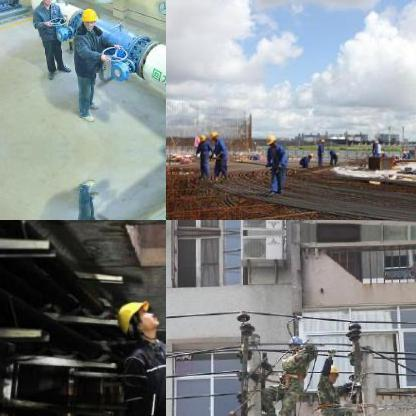Helmet: (113, 298, 157, 340), (78, 4, 96, 32), (286, 332, 306, 354), (322, 359, 340, 381), (264, 131, 276, 145), (207, 126, 218, 140), (196, 131, 206, 143), (39, 0, 54, 6)
